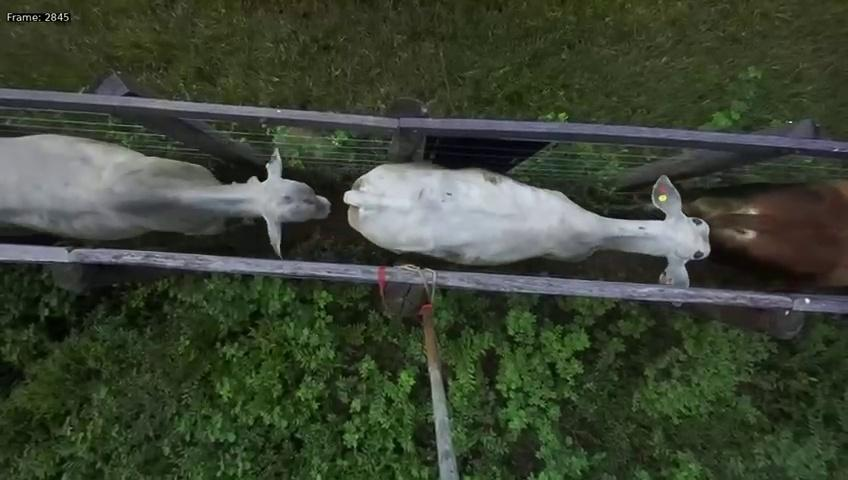cattle: (346, 144, 714, 307), (1, 128, 330, 260)
